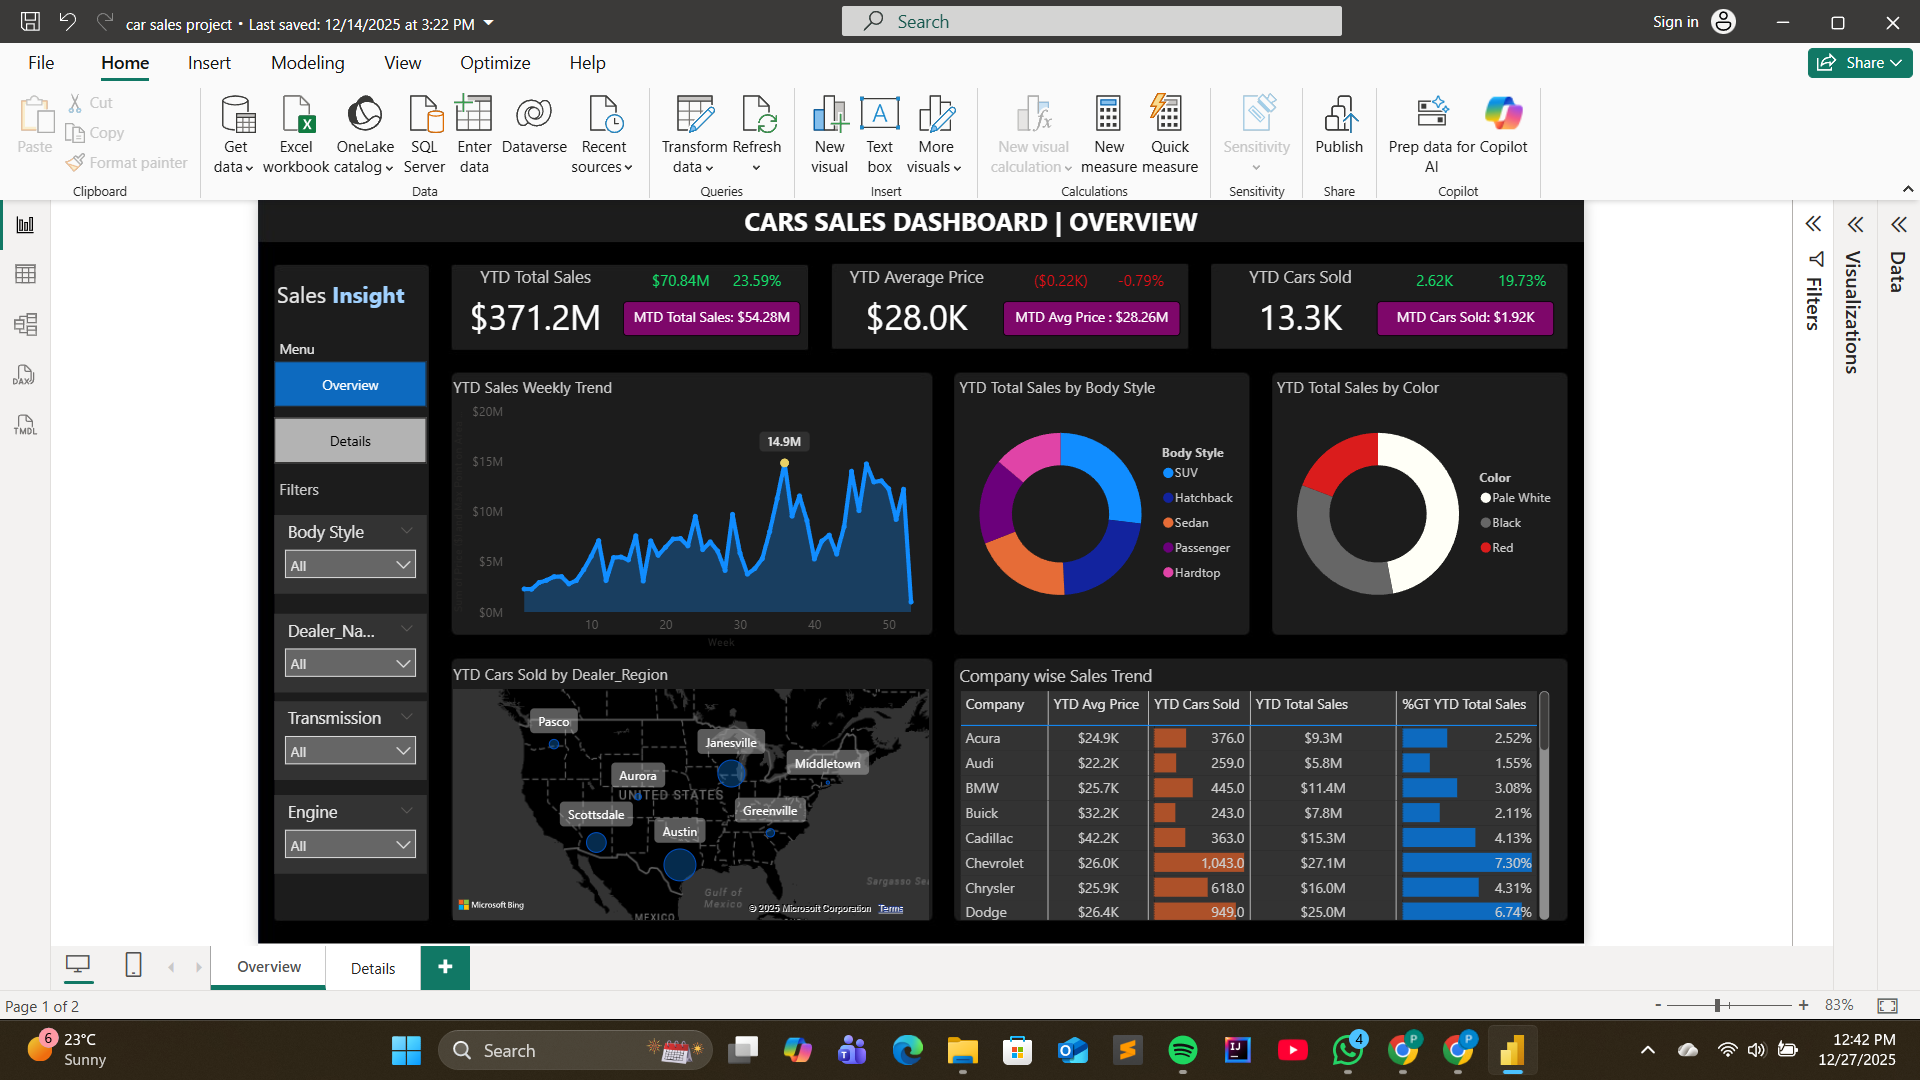

What the dashboard file says about the page in this screenshot:
{"tool":"powerbi","page":{"name":"Overview","canvas":[1280,720],"ordinal":0},"visuals":[{"type":"card","title":"YTD Total Sales","fields":{"Values":["car_data.Year To Date"]},"box":[170.1,62.7,195.4,78.4],"z":0},{"type":"card","fields":{"Values":["car_data.difference of sales"]},"box":[352.3,62.7,112.2,35],"z":1000},{"type":"card","fields":{"Values":["car_data.YoY"]},"box":[425.9,62.7,112.2,35],"z":2000},{"type":"card","fields":{"Values":["car_data.MTD KPI"]},"box":[352.3,97.7,171.3,33.8],"z":3000},{"type":"card","title":"YTD Average Price","fields":{"Values":["car_data.YTD Avg Price"]},"box":[538.1,62.7,195.4,78.4],"z":4000},{"type":"card","fields":{"Values":["car_data.Avg price diff"]},"box":[719,62.7,112.2,35],"z":5000},{"type":"card","fields":{"Values":["car_data.YoY Avg Price"]},"box":[796.3,62.7,112.2,35],"z":6000},{"type":"card","fields":{"Values":["car_data.MTD Avg price KPI"]},"box":[719,97.7,171.3,33.8],"z":7000},{"type":"card","title":"YTD Cars Sold","fields":{"Values":["car_data.YTD Cars Sold"]},"box":[908.4,62.7,195.4,78.4],"z":8000},{"type":"card","fields":{"Values":["car_data.Cars Sold Diff"]},"box":[1079.8,62.7,112.2,35],"z":9000},{"type":"card","fields":{"Values":["car_data.YoY Car Sold Growth"]},"box":[1164.2,62.7,112.2,35],"z":10000},{"type":"card","fields":{"Values":["car_data.MTD Cars Sold KPI"]},"box":[1079.8,97.7,171.3,33.8],"z":11000},{"type":"areaChart","title":"YTD Sales Weekly Trend","fields":{"Category":["Calender Table.Week"],"Y":["Sum(car_data.Price ($))","car_data.Max Point on Area Chart"]},"box":[183.9,170.2,469.3,267.6],"z":12000},{"type":"donutChart","fields":{"Category":["car_data.Body Style"],"Y":["car_data.Year To Date"]},"box":[672,170.1,283.5,246.1],"z":13000},{"type":"donutChart","fields":{"Y":["car_data.Year To Date"],"Category":["car_data.Color"]},"box":[978.4,170.1,283.5,246.1],"z":14000},{"type":"map","fields":{"Category":["car_data.Dealer_Region"],"Size":["car_data.YTD Cars Sold"]},"box":[183.4,447.6,469.3,252.1],"z":15000},{"type":"tableEx","title":"Company wise Sales Trend","fields":{"Values":["car_data.Company","car_data.YTD Avg Price","car_data.YTD Cars Sold","car_data.Year To Date Total Sales","car_data.Year To Date"]},"box":[672,447.6,579.1,252.1],"z":16000},{"type":"textbox","box":[464.5,0,469.3,49.5],"z":17000},{"type":"slicer","fields":{"Values":["car_data.Body Style"]},"box":[15.7,304,147.2,76],"z":18000},{"type":"slicer","fields":{"Values":["car_data.Dealer_Name"]},"box":[15.7,399.3,147.2,76],"z":18001},{"type":"slicer","fields":{"Values":["car_data.Transmission"]},"box":[15.7,483.8,147.2,76],"z":18002},{"type":"slicer","fields":{"Values":["car_data.Engine"]},"box":[15.7,574.3,147.2,76],"z":18003},{"type":"textbox","box":[15.7,264.2,149.6,39.8],"z":18004},{"type":"pageNavigator","box":[15.7,155.6,147.2,98.9],"z":18005},{"type":"textbox","box":[13.3,71.2,150.8,53.1],"z":18006},{"type":"textbox","box":[15.7,129.1,49.5,41],"z":18007}]}

Visuals, with their boxes on the page's 1280x720 design canvas (x1, y1, x2, y2). These are canvas units, not pixel positions in the 1920x1080 screenshot, which may show the page scaled, cropped or inside an application window:
"YTD Total Sales" card: region(170, 63, 366, 141)
card - car_data.difference of sales: region(352, 63, 464, 98)
card - car_data.YoY: region(426, 63, 538, 98)
card - car_data.MTD KPI: region(352, 98, 524, 132)
"YTD Average Price" card: region(538, 63, 734, 141)
card - car_data.Avg price diff: region(719, 63, 831, 98)
card - car_data.YoY Avg Price: region(796, 63, 908, 98)
card - car_data.MTD Avg price KPI: region(719, 98, 890, 132)
"YTD Cars Sold" card: region(908, 63, 1104, 141)
card - car_data.Cars Sold Diff: region(1080, 63, 1192, 98)
card - car_data.YoY Car Sold Growth: region(1164, 63, 1276, 98)
card - car_data.MTD Cars Sold KPI: region(1080, 98, 1251, 132)
"YTD Sales Weekly Trend" areaChart: region(184, 170, 653, 438)
donutChart - car_data.Body Style x car_data.Year To Date: region(672, 170, 956, 416)
donutChart - car_data.Year To Date x car_data.Color: region(978, 170, 1262, 416)
map - car_data.Dealer_Region x car_data.YTD Cars Sold: region(183, 448, 653, 700)
"Company wise Sales Trend" tableEx: region(672, 448, 1251, 700)
textbox: region(464, 0, 934, 50)
slicer - car_data.Body Style: region(16, 304, 163, 380)
slicer - car_data.Dealer_Name: region(16, 399, 163, 475)
slicer - car_data.Transmission: region(16, 484, 163, 560)
slicer - car_data.Engine: region(16, 574, 163, 650)
textbox: region(16, 264, 165, 304)
pageNavigator: region(16, 156, 163, 254)
textbox: region(13, 71, 164, 124)
textbox: region(16, 129, 65, 170)
